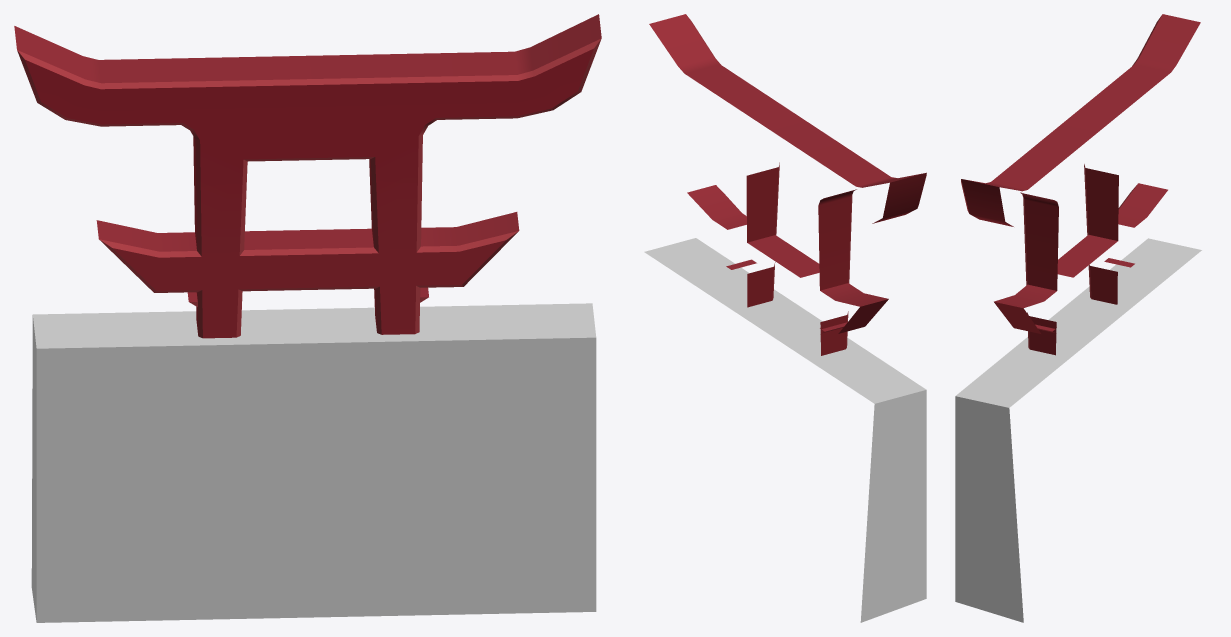
The model's file is BigHero6Sign.glb.
3 renders of one model, left to right at view 1: azimuth 30°, elevation 25°; view 2: azimuth 150°, elevation 25°; view 3: azimuth 270°, elevation 25°, orthographic. The views are drawn at different scales.
Visible parts, largest first — view 1: BigHero6Sign; view 2: BigHero6Sign; view 3: BigHero6Sign.
Part boxes in pixels (left/top/right/bottom): BigHero6Sign: left=14, top=14, right=601, bottom=622; BigHero6Sign: left=644, top=14, right=926, bottom=622; BigHero6Sign: left=955, top=14, right=1201, bottom=622.
Size of the model in its own units: 2.39 by 2.74 by 1.5.
